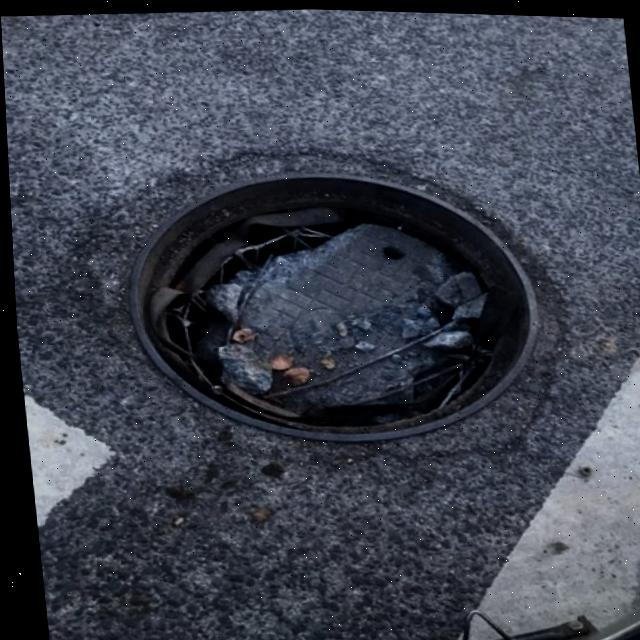manhole: (100, 141, 553, 460)
